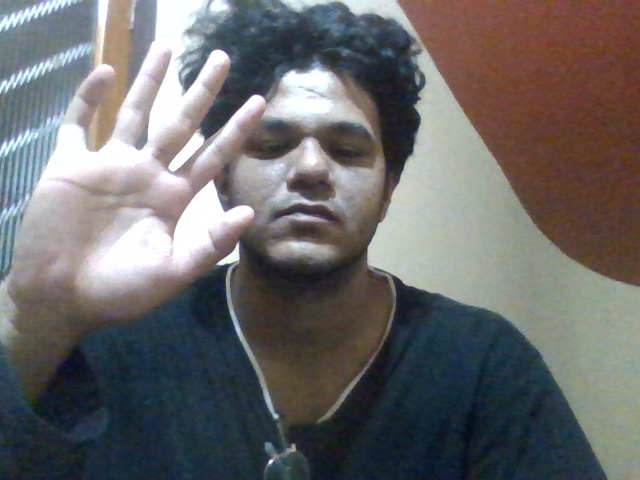hello: (24, 22, 262, 331)
